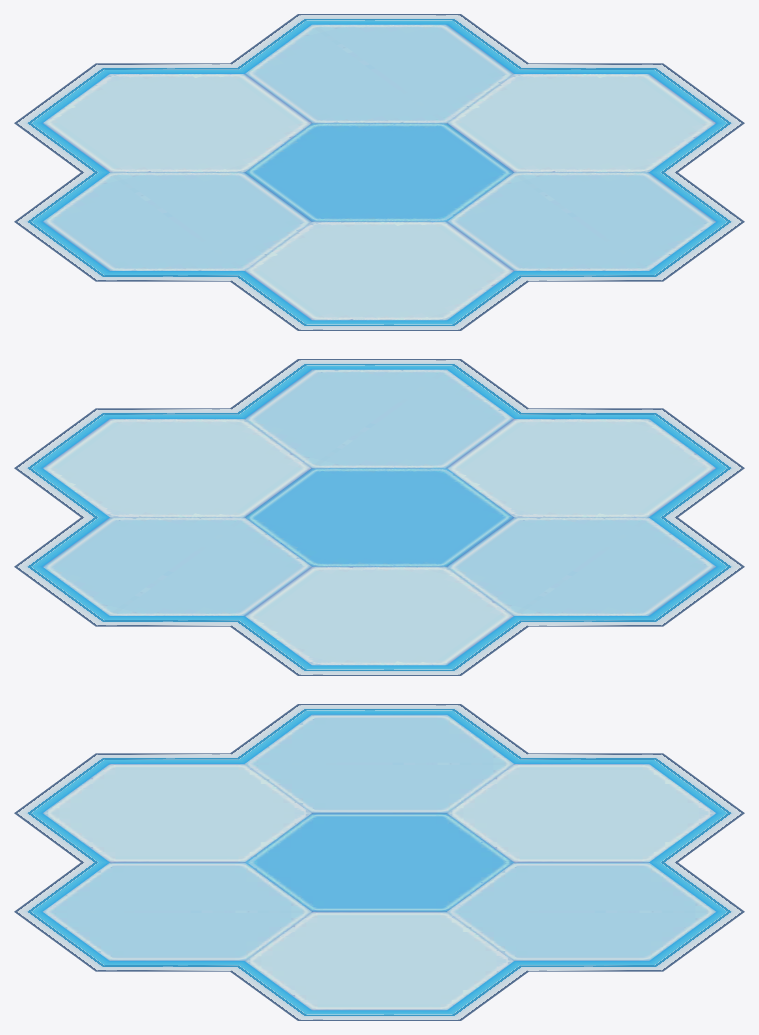
Rendered from my_millenniumlounge_01_carpet_04.glb.
The picture shows the model from 3 angles, top to bottom: view 1: azimuth 30°, elevation 25°; view 2: azimuth 150°, elevation 25°; view 3: azimuth 270°, elevation 25°; orthographic projection.
Visible parts, largest first — view 1: my_millenniumlounge_01_carpet_04; view 2: my_millenniumlounge_01_carpet_04; view 3: my_millenniumlounge_01_carpet_04.
Boxes of the visible parts, box(x1,y1,x2,y2) form: my_millenniumlounge_01_carpet_04: box(14, 14, 744, 330); my_millenniumlounge_01_carpet_04: box(14, 359, 744, 675); my_millenniumlounge_01_carpet_04: box(14, 704, 744, 1020).
Size of the model in its own units: 0.0247 by 1.16e-12 by 0.0241.
Materials: 1 (1 with a texture image).
